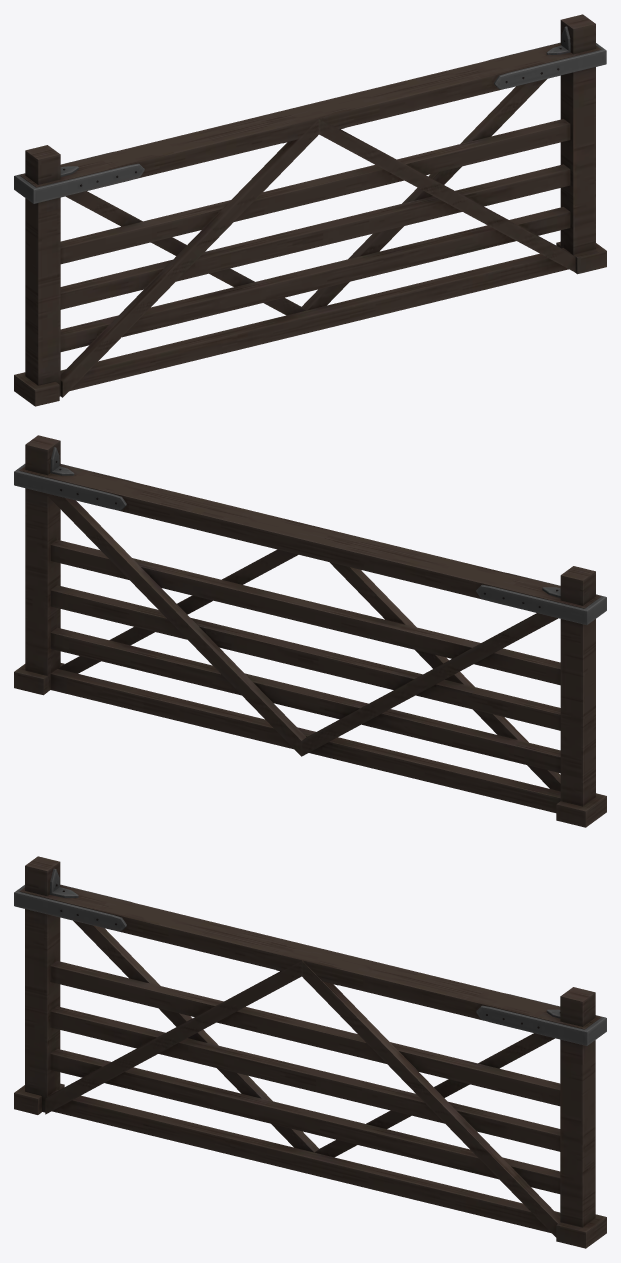
File: aVsjwBOr0xQ.glb
The picture shows the model from 3 angles, top to bottom: view 1: azimuth 30°, elevation 25°; view 2: azimuth 150°, elevation 25°; view 3: azimuth 330°, elevation 25°; orthographic projection.
Visible parts, largest first — view 1: Gate_mesh1; view 2: Gate_mesh1; view 3: Gate_mesh1.
Boxes of the visible parts, <box> form: Gate_mesh1: <box>14,14,606,406</box>; Gate_mesh1: <box>14,435,606,827</box>; Gate_mesh1: <box>14,856,606,1248</box>.
Bounding box in the file's own units: 2.48 × 0.9999 × 0.1603.
Materials: 1 (1 with a texture image).
